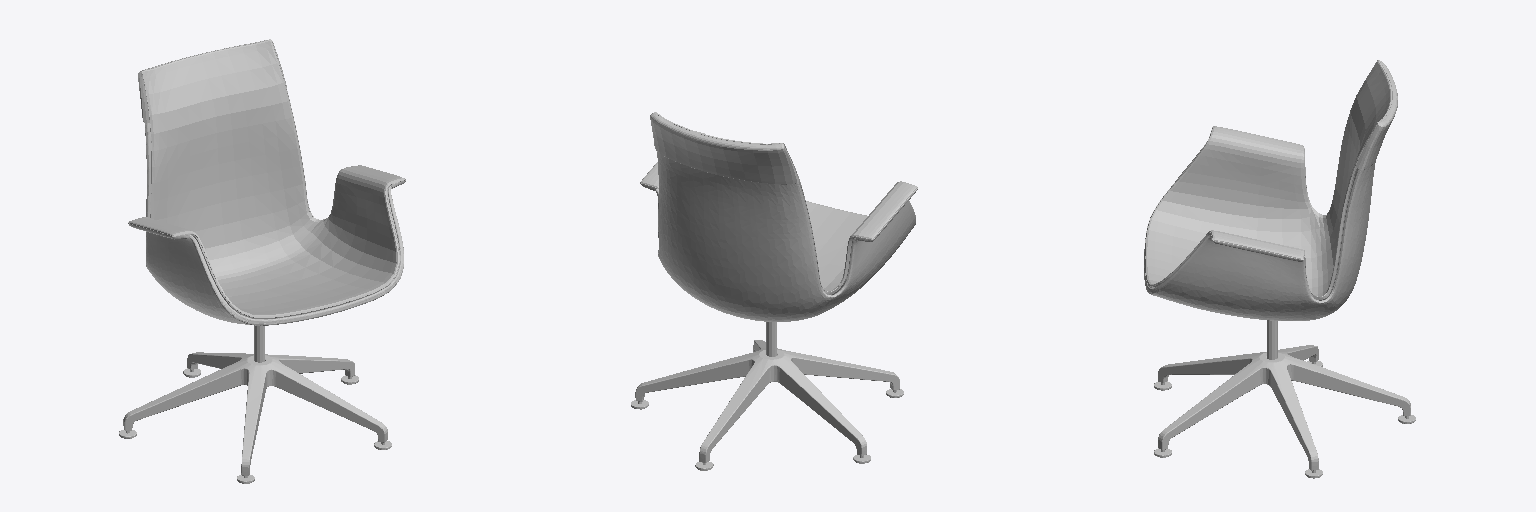
Rendered from Armchair 6729-5G.obj.
3 views of the same model, side by side, from view 1: azimuth 30°, elevation 25°; view 2: azimuth 150°, elevation 25°; view 3: azimuth 270°, elevation 25° (orthographic).
Parts seen in each view (by area): view 1: 3_FK_BEZUG, 3_FK_METAL, 3_FK_LACK_; view 2: 3_FK_LACK_, 3_FK_BEZUG, 3_FK_METAL; view 3: 3_FK_BEZUG, 3_FK_LACK_, 3_FK_METAL.
Part boxes in pixels (left/top/right/bottom): 3_FK_BEZUG: left=128, top=39, right=405, bottom=318; 3_FK_METAL: left=119, top=352, right=391, bottom=482; 3_FK_LACK_: left=145, top=123, right=403, bottom=325; 3_FK_LACK_: left=655, top=152, right=915, bottom=321; 3_FK_BEZUG: left=640, top=112, right=917, bottom=294; 3_FK_METAL: left=631, top=340, right=903, bottom=469; 3_FK_BEZUG: left=1144, top=60, right=1397, bottom=300; 3_FK_LACK_: left=1144, top=149, right=1375, bottom=320; 3_FK_METAL: left=1154, top=345, right=1415, bottom=477.
Bounding box in the file's own units: 1759 × 2329 × 1744.